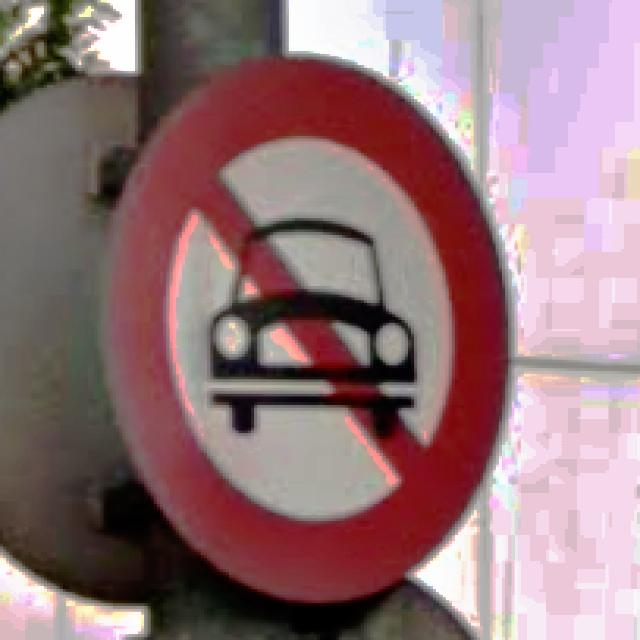nocar: (100, 57, 511, 606)
